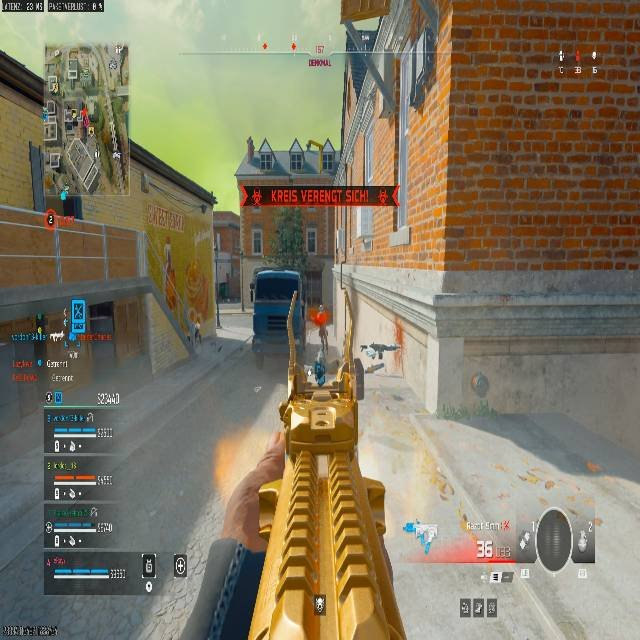player: (313, 360, 325, 386)
